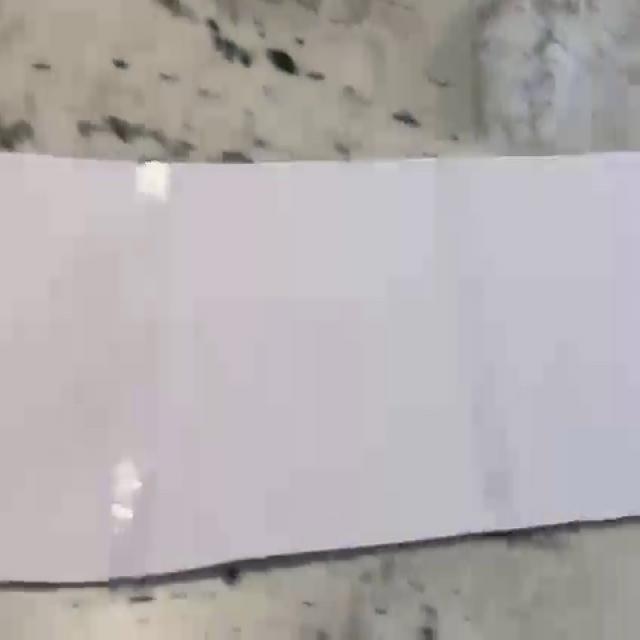road: (0, 153, 640, 582)
